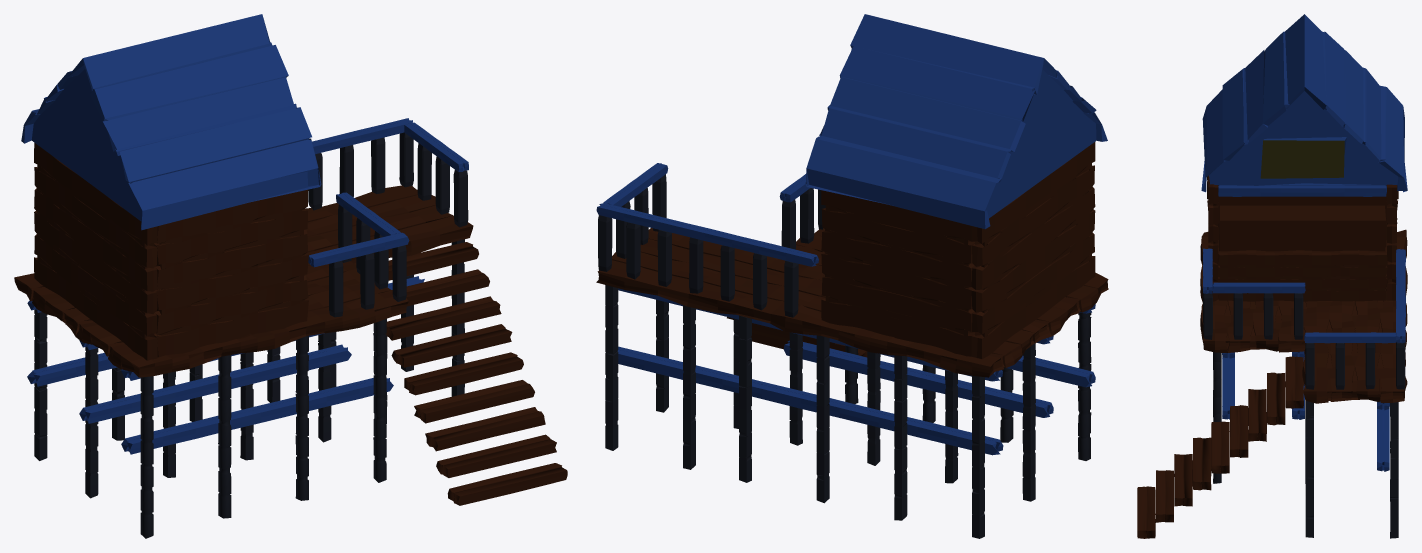
Rendered from sklepik1.obj.
3 renders of one model, left to right at view 1: azimuth 30°, elevation 25°; view 2: azimuth 150°, elevation 25°; view 3: azimuth 270°, elevation 25°, orthographic. The views are drawn at different scales.
Visible parts, largest first — view 1: Cube.026, Cube.011, Cube.009, Cube.010, Plane, Cube, Cube.001, Cube.002, Cube.006, Cube.004, Cube.015, Cube.016 (+8 smaller); view 2: Cube.026, Cube.012, Cube.010, Plane, Cube.001, Cube.002, Cube.008, Cube, Cube.006, Cube.016, Cube.023, Cube.015 (+6 smaller); view 3: Cube.026, Plane, Cube.009, Cube.028, Cube.013, Cube.001, Cube.014, Cube.015, Cube.027, Cube.024, Cube.012, Cube.022 (+8 smaller).
Part boxes in pixels (x1,y1,x2,y2): Cube.026: [21, 14, 321, 230]; Cube.011: [154, 189, 308, 357]; Cube.009: [385, 242, 567, 505]; Cube.010: [34, 143, 157, 360]; Plane: [14, 185, 473, 377]; Cube: [140, 319, 386, 538]; Cube.001: [34, 239, 464, 460]; Cube.002: [85, 332, 331, 498]; Cube.006: [79, 344, 351, 423]; Cube.004: [121, 378, 393, 454]; Cube.015: [399, 132, 468, 227]; Cube.016: [308, 137, 385, 210]; Cube.026: [805, 14, 1107, 229]; Cube.012: [821, 190, 974, 356]; Cube.010: [971, 142, 1095, 358]; Plane: [596, 228, 1108, 377]; Cube.001: [605, 285, 984, 538]; Cube.002: [789, 332, 1035, 501]; Cube.008: [617, 346, 1003, 455]; Cube: [845, 312, 1091, 460]; Cube.006: [784, 340, 1053, 417]; Cube.016: [626, 222, 734, 301]; Cube.023: [596, 203, 818, 266]; Cube.015: [598, 174, 666, 271]; Cube.026: [1201, 14, 1407, 192]; Plane: [1200, 229, 1407, 403]; Cube.009: [1137, 356, 1303, 538]; Cube.028: [1218, 205, 1385, 251]; Cube.013: [1217, 250, 1387, 301]; Cube.001: [1305, 401, 1398, 538]; Cube.014: [1218, 183, 1386, 196]; Cube.015: [1305, 342, 1405, 389]; Cube.027: [1218, 196, 1386, 247]; Cube.024: [1212, 282, 1305, 293]; Cube.012: [1387, 184, 1396, 300]; Cube.022: [1304, 332, 1396, 343].
Bounding box in the file's own units: 9.87 × 10.47 × 6.94.
